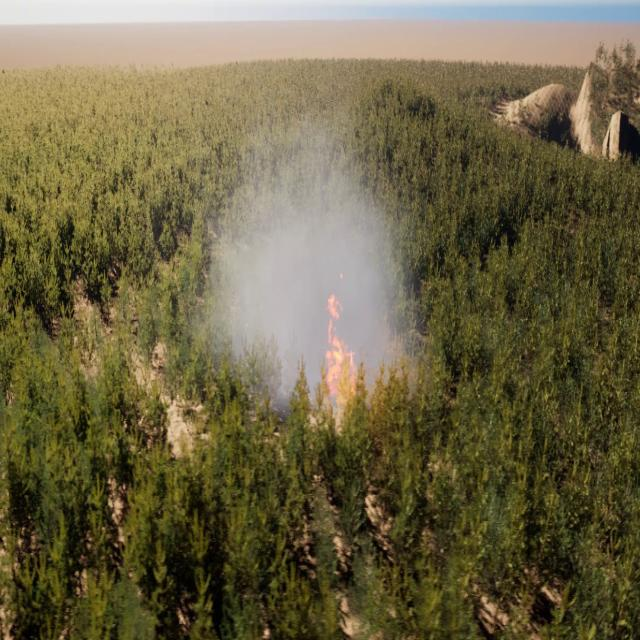fire: (318, 275, 372, 415)
smoke: (194, 121, 430, 410)
